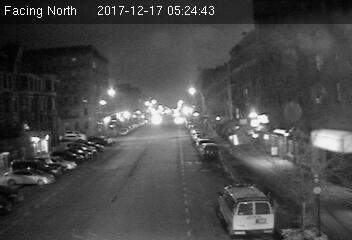police: (216, 182, 277, 235)
